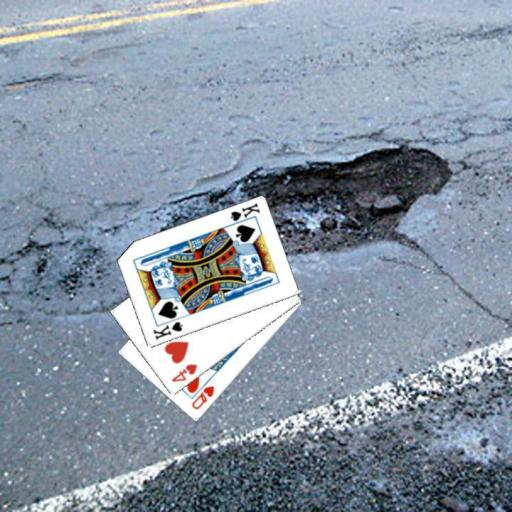4H: (169, 361, 199, 384)
KS: (227, 200, 261, 227), (150, 319, 184, 342)
QH: (189, 383, 216, 411)
